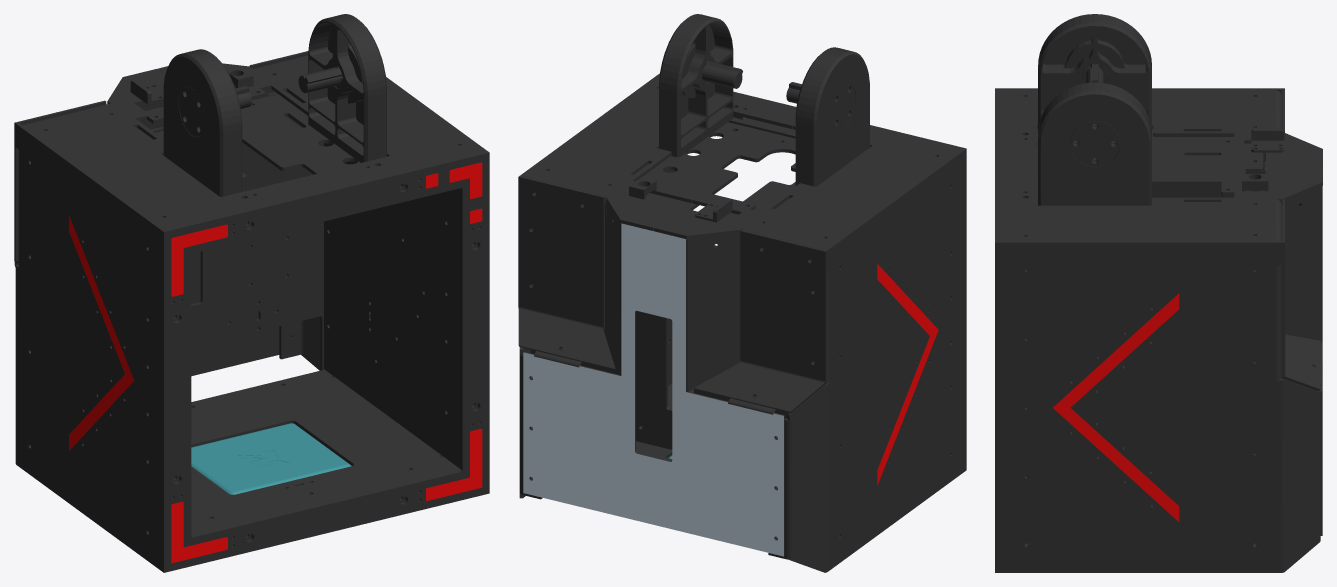
File: exchange-slot.glb
The picture shows the model from 3 angles, left to right: view 1: azimuth 30°, elevation 25°; view 2: azimuth 150°, elevation 25°; view 3: azimuth 270°, elevation 25°; orthographic projection. The views are drawn at different scales.
Visible parts, largest first — view 1: exchange_slot__cad_00940_SOLID, exchange_slot__cad_00889_SOLID, exchange_slot__inner_side_left, exchange_slot__receiving_floor, exchange_slot__cad_00957_SOLID, exchange_slot__rear_plate, exchange_slot__cad_00962_SOLID, exchange_slot__cad_00966_SOLID, exchange_slot__cad_00954_SOLID, exchange_slot__cad_00937_YC_SJ_W01360_02, exchange_slot__inner_roof, exchange_slot__cad_00946_SOLID (+9 smaller); view 2: exchange_slot__cad_00946_SOLID, exchange_slot__cad_00940_SOLID, exchange_slot__cad_00949_DHZ-01-V1-120001, exchange_slot__cad_00948_DHZ-01-V1-110001, exchange_slot__cad_00957_SOLID, exchange_slot__cad_00954_SOLID, exchange_slot__cad_00962_SOLID, exchange_slot__cad_00966_SOLID, exchange_slot__inner_roof, exchange_slot__rear_plate, exchange_slot__cad_00950_DHZ-01-V1-0015, exchange_slot__cad_00889_SOLID (+4 smaller); view 3: exchange_slot__cad_00943_SOLID, exchange_slot__cad_00954_SOLID, exchange_slot__cad_00962_SOLID, exchange_slot__cad_00957_SOLID, exchange_slot__cad_00966_SOLID, exchange_slot__cad_00946_SOLID, exchange_slot__cad_00951_DHZ-01-V1-0015, exchange_slot__inner_roof, exchange_slot__cad_00948_DHZ-01-V1-110001, exchange_slot__cad_00964_DHZ-01-V2-000, exchange_slot__cad_00889_SOLID, exchange_slot__inner_side_right (+4 smaller).
Part boxes in pixels (x1,y1,x2,y2): exchange_slot__cad_00940_SOLID: (15,123,165,571); exchange_slot__cad_00889_SOLID: (162,151,489,572); exchange_slot__inner_side_left: (324,143,461,469); exchange_slot__receiving_floor: (191,369,460,536); exchange_slot__cad_00957_SOLID: (22,68,325,230); exchange_slot__rear_plate: (137,90,334,377); exchange_slot__cad_00962_SOLID: (308,14,386,162); exchange_slot__cad_00966_SOLID: (163,49,242,197); exchange_slot__cad_00954_SOLID: (158,55,484,191); exchange_slot__cad_00937_YC_SJ_W01360_02: (191,423,351,494); exchange_slot__inner_roof: (137,92,360,181); exchange_slot__cad_00946_SOLID: (138,85,279,376); exchange_slot__cad_00946_SOLID: (523,201,784,556); exchange_slot__cad_00940_SOLID: (768,148,965,572); exchange_slot__cad_00949_DHZ-01-V1-120001: (694,230,826,412); exchange_slot__cad_00948_DHZ-01-V1-110001: (518,176,615,370); exchange_slot__cad_00957_SOLID: (654,124,961,262); exchange_slot__cad_00954_SOLID: (524,77,796,230); exchange_slot__cad_00962_SOLID: (659,14,733,157); exchange_slot__cad_00966_SOLID: (795,47,869,186); exchange_slot__inner_roof: (634,122,795,219); exchange_slot__rear_plate: (530,217,716,449); exchange_slot__cad_00950_DHZ-01-V1-0015: (877,264,938,485); exchange_slot__cad_00889_SOLID: (658,73,966,470); exchange_slot__cad_00943_SOLID: (997,241,1320,572); exchange_slot__cad_00954_SOLID: (997,165,1322,240); exchange_slot__cad_00962_SOLID: (1038,82,1151,205); exchange_slot__cad_00957_SOLID: (997,90,1322,165); exchange_slot__cad_00966_SOLID: (1038,14,1151,132); exchange_slot__cad_00946_SOLID: (1281,186,1322,535); exchange_slot__cad_00951_DHZ-01-V1-0015: (1053,293,1179,521); exchange_slot__inner_roof: (1036,129,1263,205); exchange_slot__cad_00948_DHZ-01-V1-110001: (1282,199,1320,390); exchange_slot__cad_00964_DHZ-01-V2-000: (1070,120,1119,166); exchange_slot__cad_00889_SOLID: (995,88,997,572); exchange_slot__inner_side_right: (1152,171,1263,197).
Bounding box in the file's own units: 0.288 × 0.3865 × 0.259.
